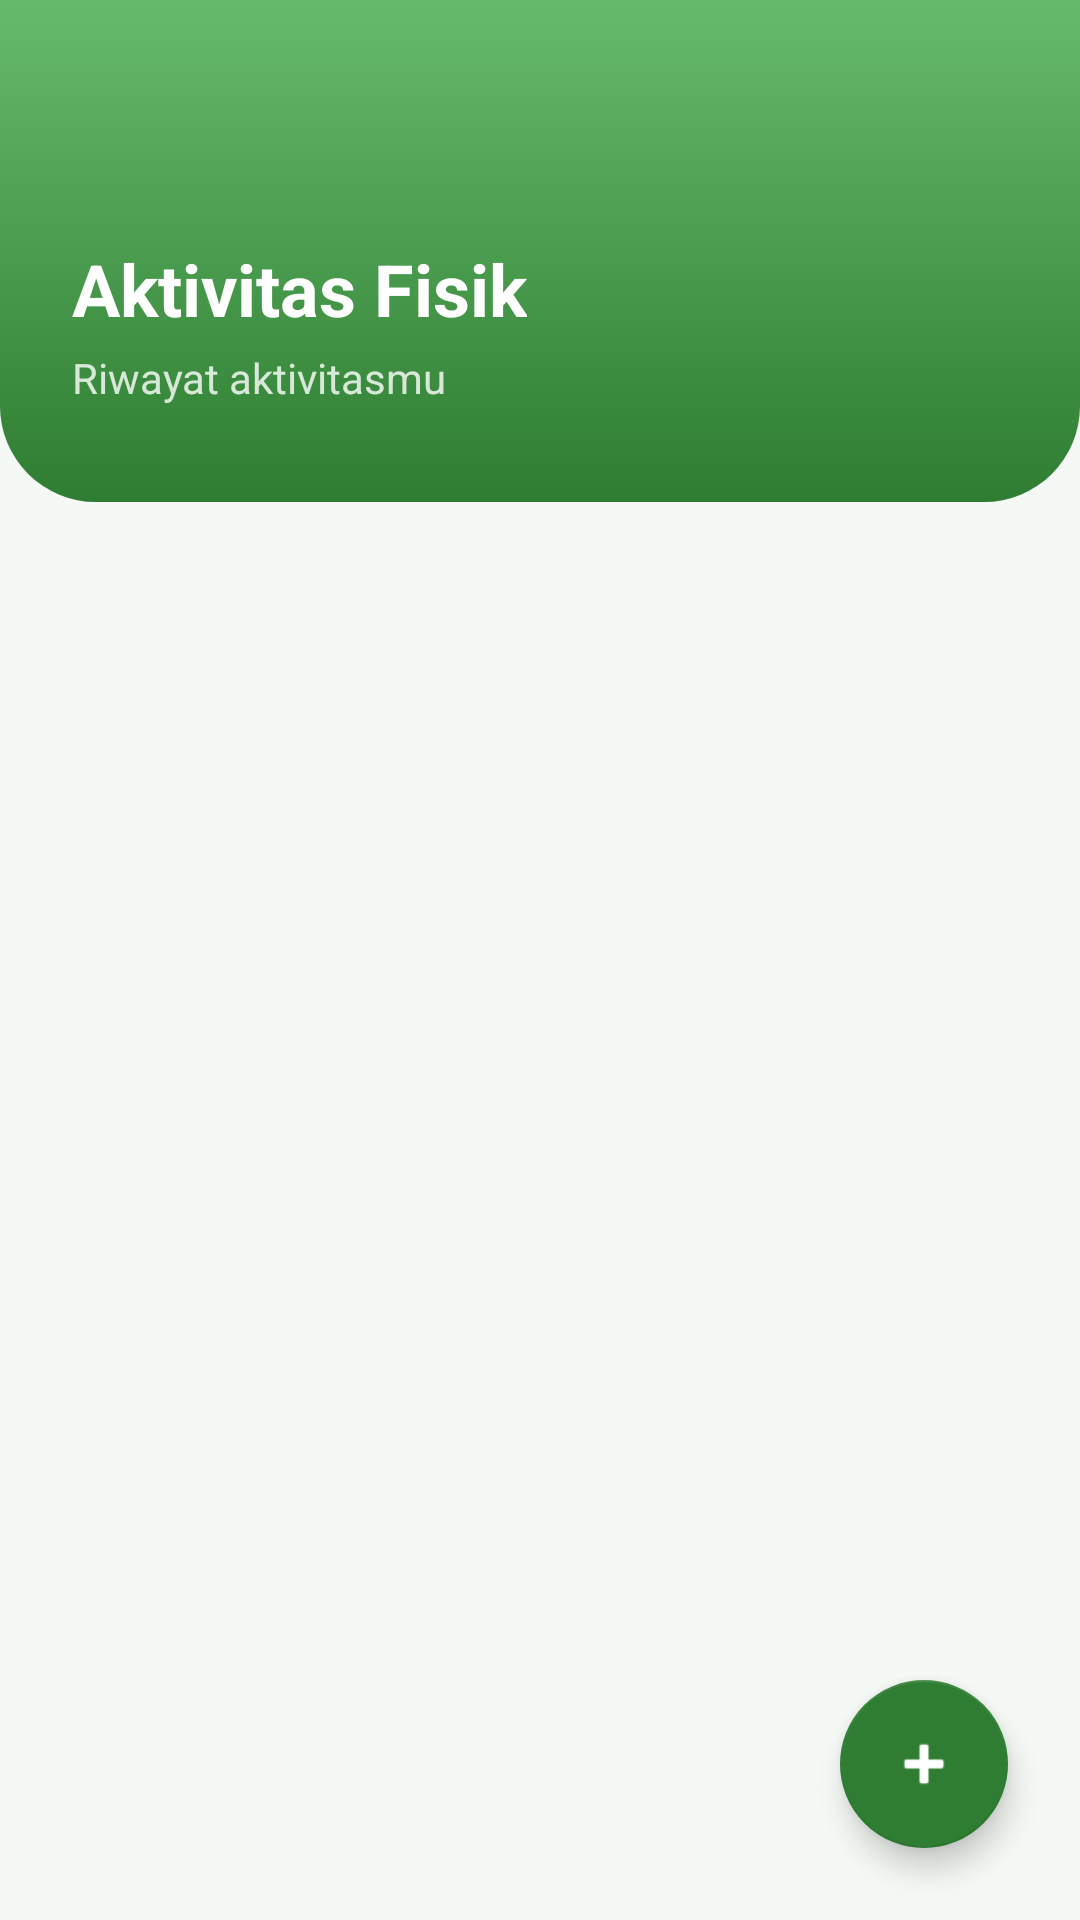

Where icons sit on this 1080 x 1920 app screen, as (x1, y1, x2, y2):
Tambah Aktivitas: (840, 1680, 1008, 1848)
